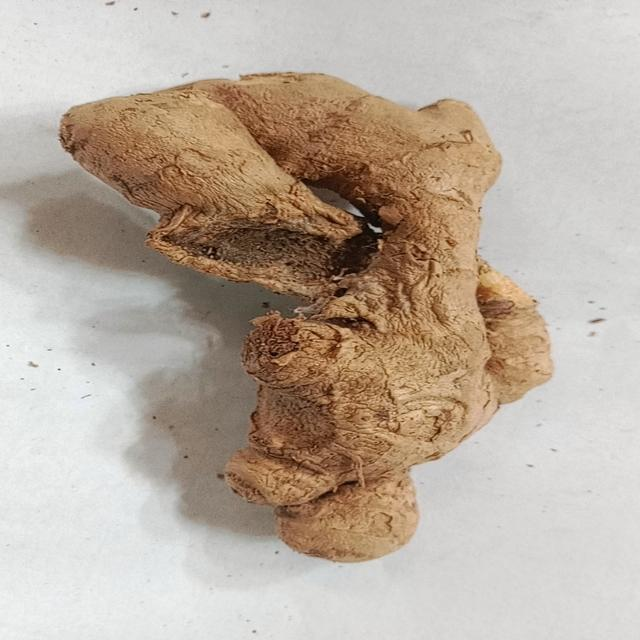ginger: (61, 71, 556, 556)
